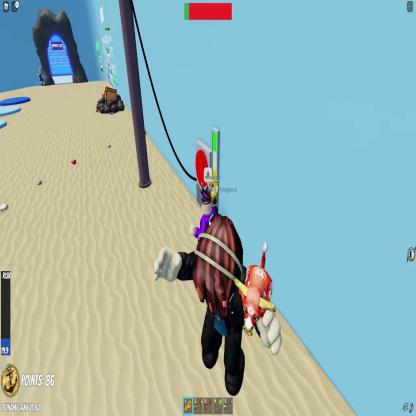Roblox-Avatar: (154, 214, 283, 397), (190, 187, 217, 239)
